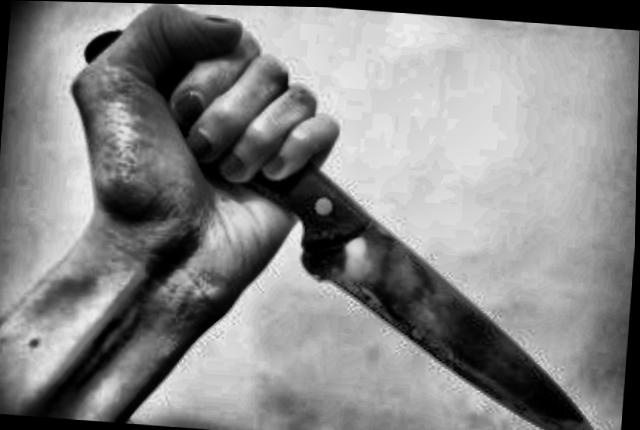knife: (158, 51, 629, 430)
